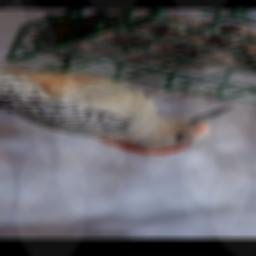Woodpecker: (0, 53, 237, 156)
